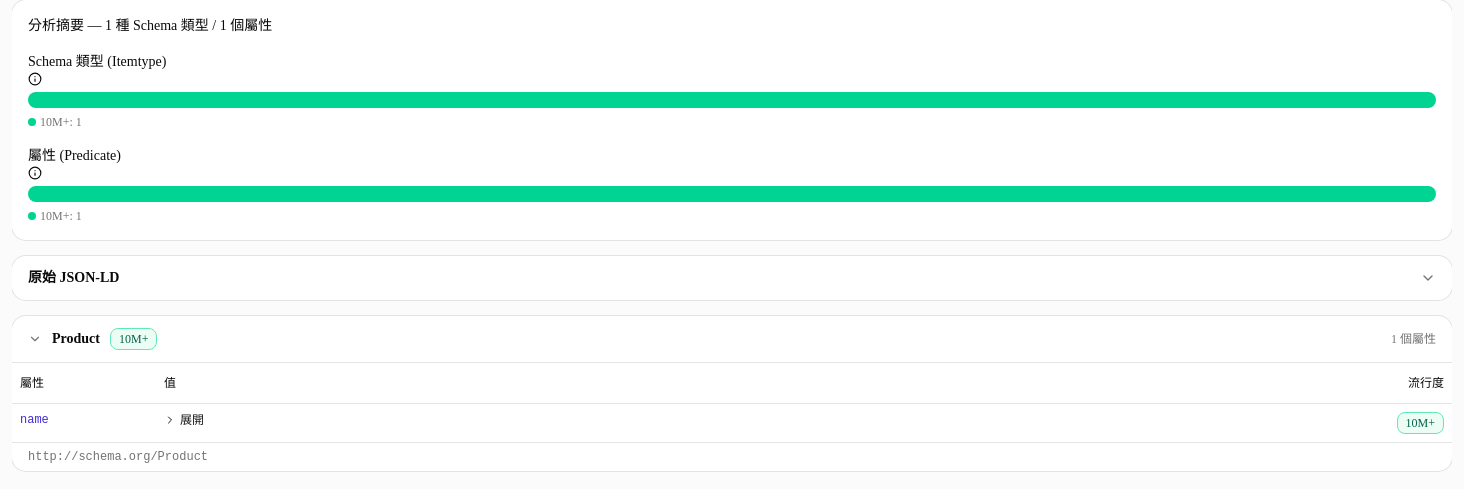
Test: SchemaCard toggle › starts open and collapses when the header is clicked
Expected: the text "name" is shown, [12, 403, 156, 442]
What coordinates should you click on to do the following:
click the button "Product 10M+ 1 個屬性"
I would click on:
 (76, 338)
Its box is [12, 316, 1452, 362].
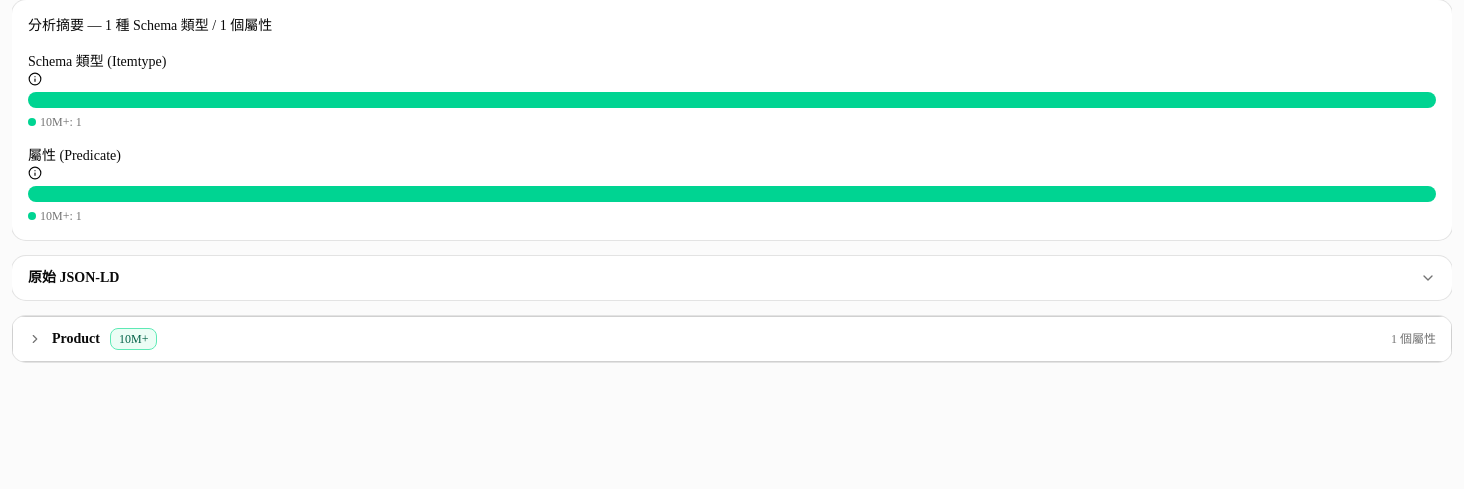
Result: the text "name" is gone
